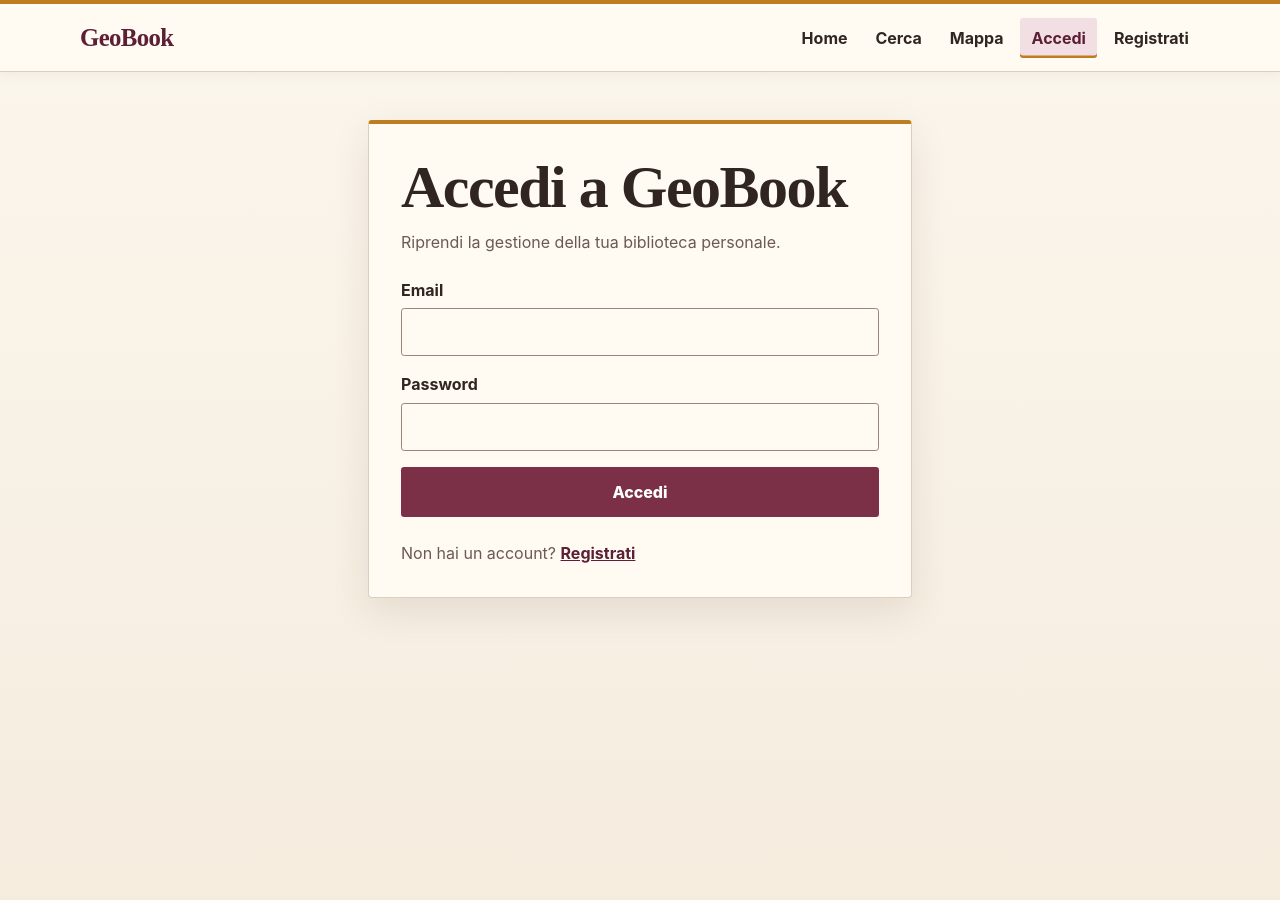
Test: authentication flows › validates login fields before contacting the login endpoint
expect the heading "Accedi a GeoBook" is shown: met, box [401,156,879,219]
Click the button "Accedi": click(640, 492) [401,467,879,517]
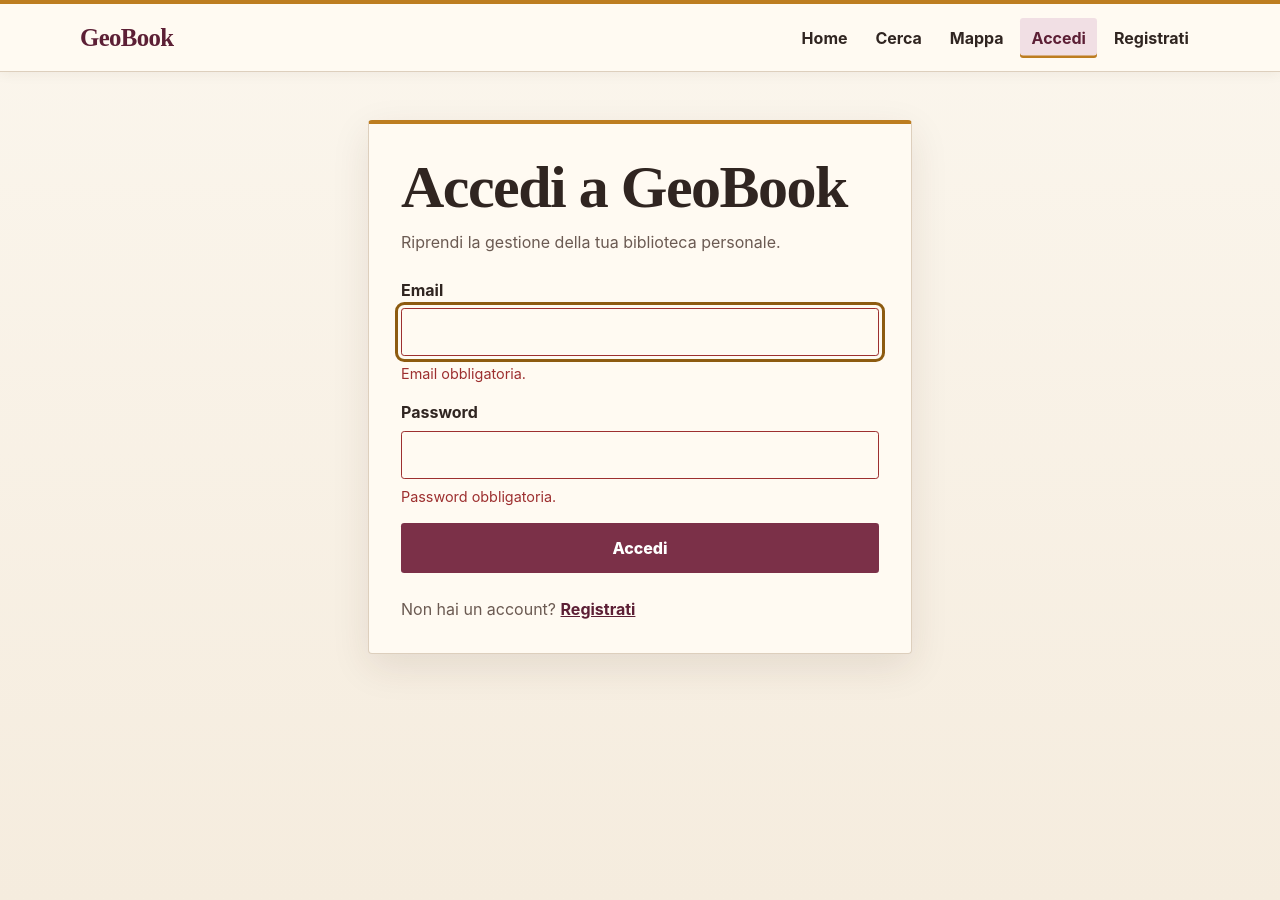
expect the text "Email obbligatoria." is shown: met, box [401,365,526,382]
expect the text "Password obbligatoria." is shown: met, box [401,488,556,504]
